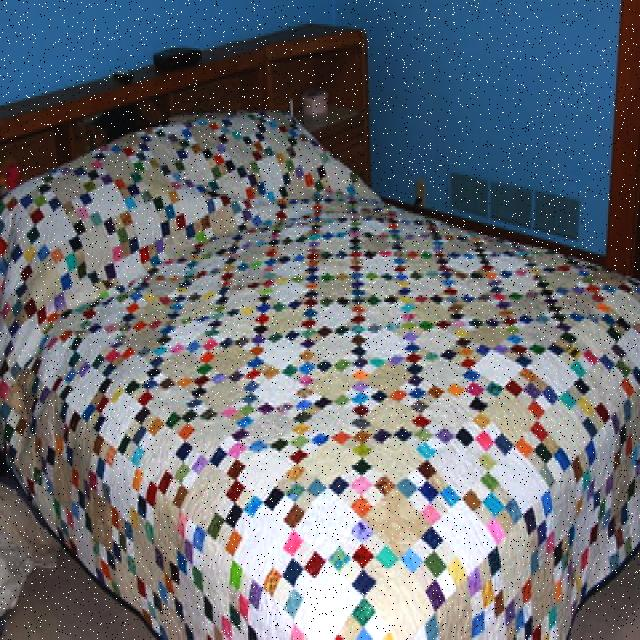bed: (0, 81, 637, 616)
